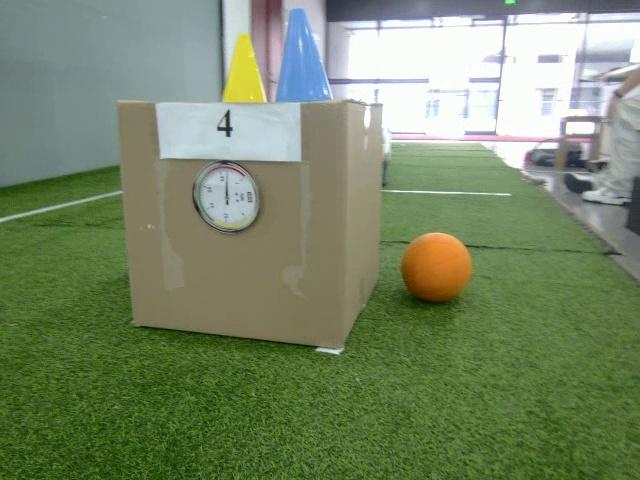4: (216, 109, 234, 138)
Dashboard: (191, 161, 261, 235)
blue_barrel: (274, 7, 333, 103)
orange_ball: (400, 232, 473, 302)
ssi: (246, 190, 254, 204)
yellow_ball: (221, 33, 267, 103)
